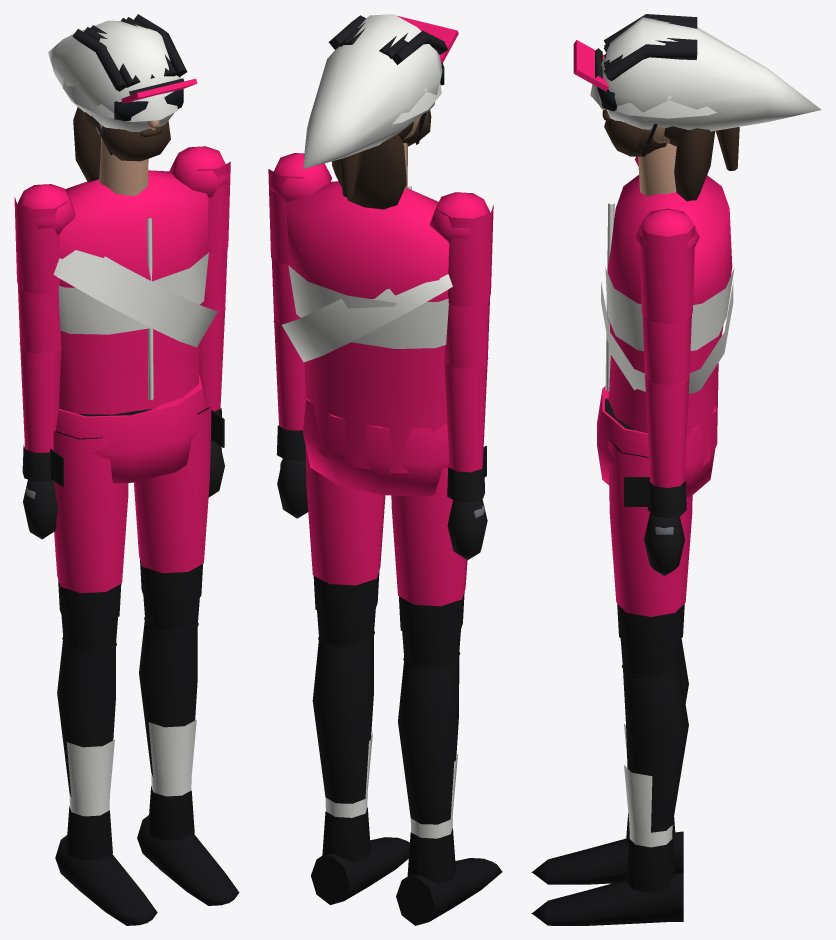
The model's file is rider.glb.
The picture shows the model from 3 angles, left to right: view 1: azimuth 30°, elevation 25°; view 2: azimuth 150°, elevation 25°; view 3: azimuth 270°, elevation 25°; orthographic projection. The views are drawn at different scales.
Visible parts, largest first — view 1: torso, suit_thigh_r, suit_thigh_l, helmet_aero, suit_pelvis, kit_sash, overshoe_l, overshoe_r, tights_shin_l, tights_shin_r, kit_band, sleeve_long_r (+20 smaller); view 2: torso, helmet_aero, tights_shin_r, tights_shin_l, suit_pelvis, suit_thigh_l, suit_thigh_r, overshoe_r, overshoe_l, kit_sash, kit_band, sleeve_long_r (+18 smaller); view 3: torso, helmet_aero, tights_shin_l, suit_thigh_l, overshoe_l, upper_arm_l, sleeve_long_l, overshoe_r, suit_pelvis, kit_band, glove_winter_l, sleeve_upper_l (+12 smaller).
Boxes of the visible parts, box(x1,y1,x2,y2) form: torso: box(17, 146, 230, 414); suit_thigh_r: box(53, 431, 128, 593); suit_thigh_l: box(134, 407, 211, 573); helmet_aero: box(48, 20, 183, 131); suit_pelvis: box(56, 375, 205, 483); kit_sash: box(53, 250, 217, 347); overshoe_l: box(137, 786, 239, 905); overshoe_r: box(55, 806, 157, 925); tights_shin_l: box(139, 617, 198, 777); tights_shin_r: box(57, 637, 116, 796); kit_band: box(58, 252, 208, 334); sleeve_long_r: box(19, 343, 61, 452); torso: box(269, 153, 490, 473); helmet_aero: box(303, 14, 444, 168); tights_shin_r: box(398, 651, 460, 824); tights_shin_l: box(312, 631, 374, 803); suit_pelvis: box(303, 398, 449, 496); suit_thigh_l: box(305, 447, 385, 585); suit_thigh_r: box(391, 444, 467, 606); overshoe_r: box(396, 828, 502, 925); overshoe_l: box(311, 807, 409, 904); kit_sash: box(282, 274, 452, 362); kit_band: box(288, 265, 448, 348); sleeve_long_r: box(444, 357, 488, 472); torso: box(605, 156, 732, 465); helmet_aero: box(597, 17, 821, 131); tights_shin_l: box(621, 664, 688, 832); suit_thigh_l: box(608, 441, 692, 616); overshoe_l: box(533, 838, 683, 925); upper_arm_l: box(639, 225, 695, 323); sleeve_long_l: box(644, 376, 689, 488); overshoe_r: box(533, 813, 683, 884); suit_pelvis: box(597, 386, 715, 497); kit_band: box(605, 267, 734, 351); glove_winter_l: box(644, 481, 686, 576); sleeve_upper_l: box(642, 314, 691, 385).
Size of the model in its own units: 0.464 by 1.79 by 0.536.
